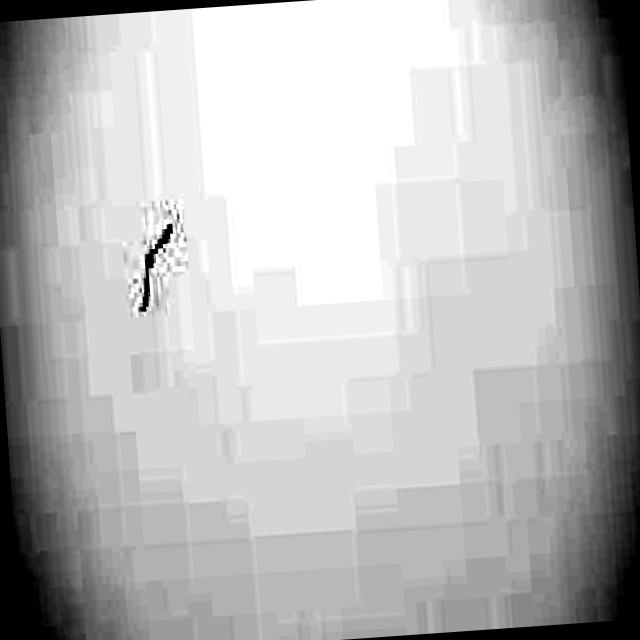bird: (130, 217, 181, 317)
